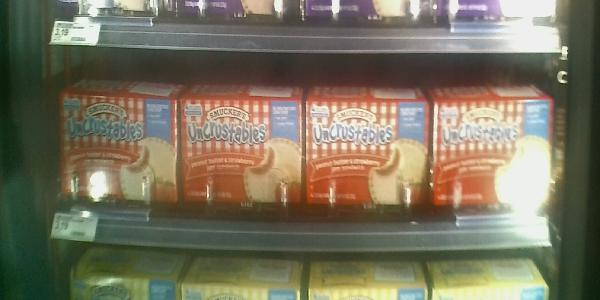icecream: (176, 87, 308, 216), (307, 85, 429, 220), (427, 90, 553, 214), (58, 83, 178, 207)
